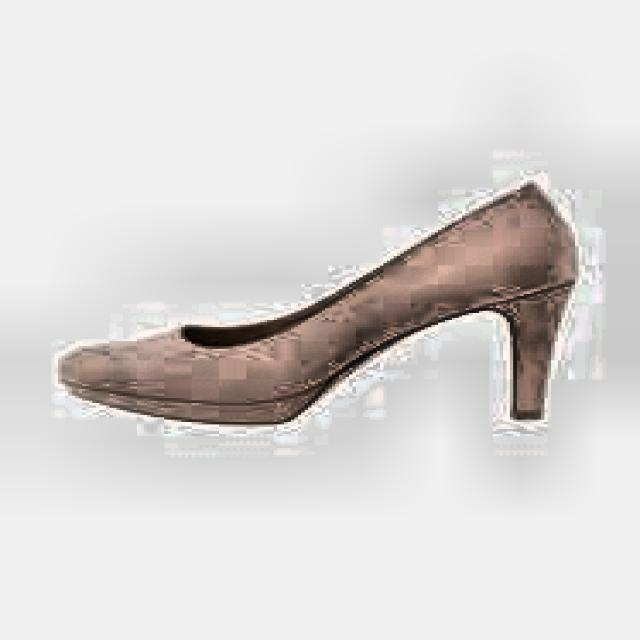shoes: (38, 174, 582, 434)
